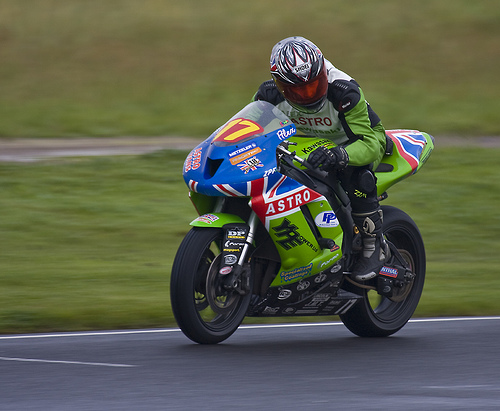helmet: (266, 41, 334, 108)
